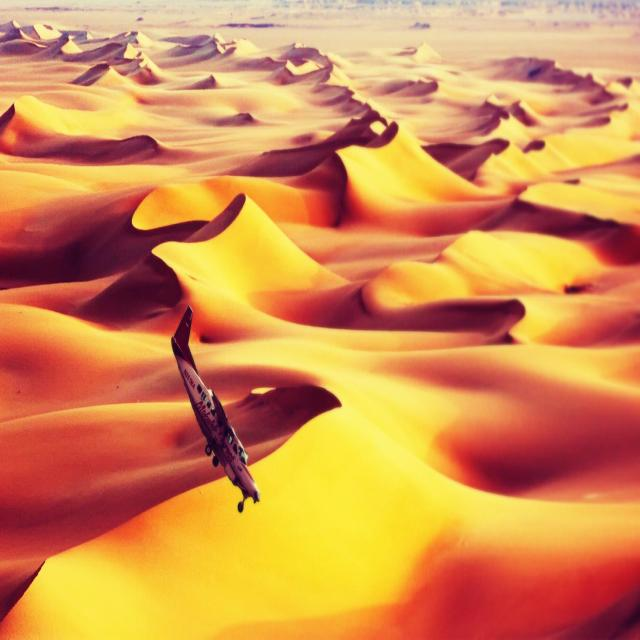airplane: (170, 304, 261, 512)
